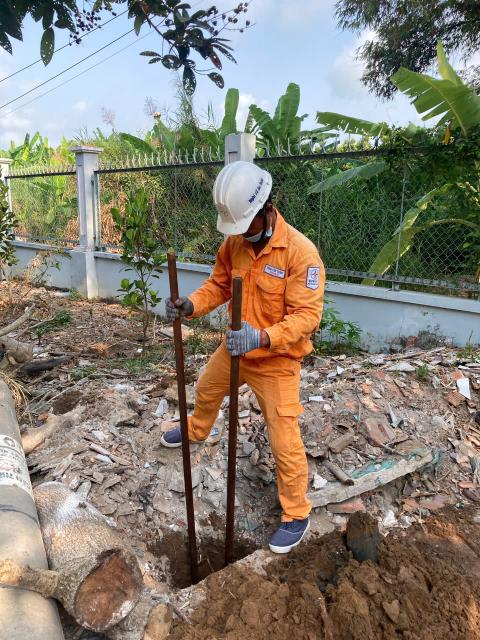gloves: (216, 317, 272, 358), (162, 291, 198, 333)
helmet: (198, 158, 276, 242)
shoes: (265, 506, 311, 558), (151, 421, 200, 452)
